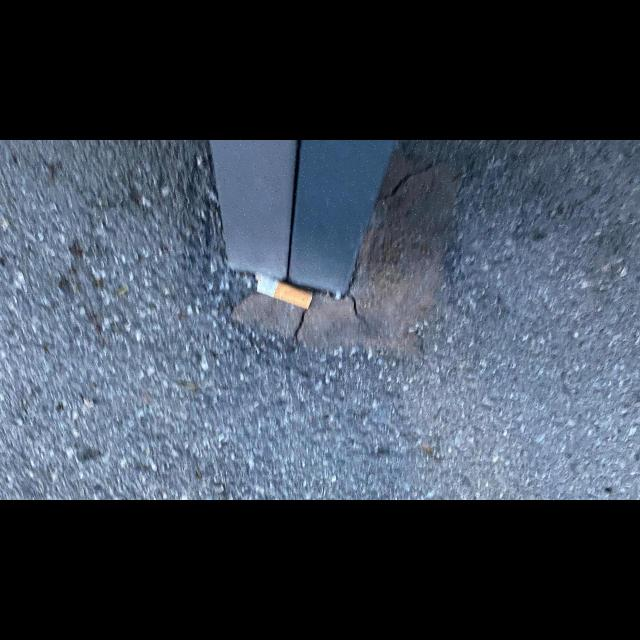cigarette: (252, 271, 314, 311)
